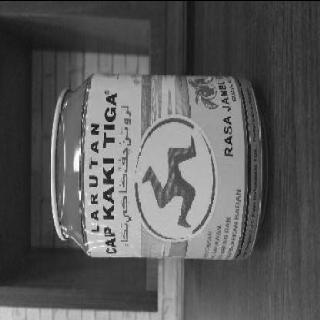alumunium_can: (49, 73, 270, 263)
